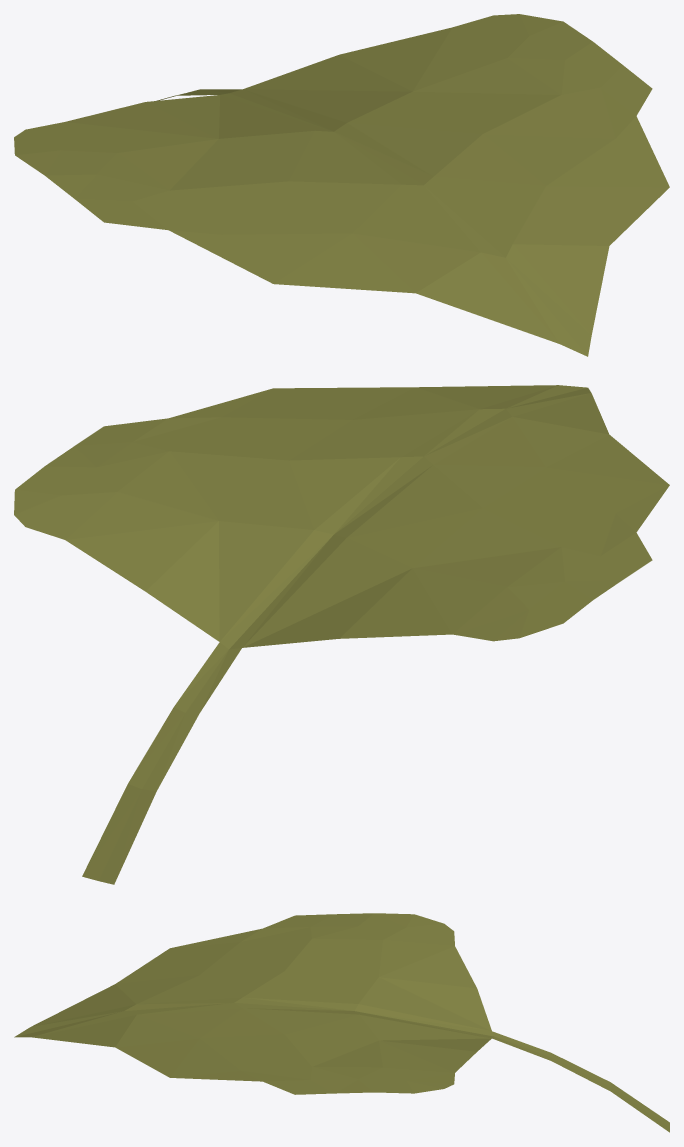
Rendered from SFHW_Leaf_004.fbx.
3 renders of one model, top to bottom at view 1: azimuth 30°, elevation 25°; view 2: azimuth 150°, elevation 25°; view 3: azimuth 270°, elevation 25°, orthographic. The views are drawn at different scales.
Visible parts, largest first — view 1: SFHW_Leaf_004; view 2: SFHW_Leaf_004; view 3: SFHW_Leaf_004.
Part boxes in pixels (<box>): SFHW_Leaf_004: <box>14,14,669,356</box>; SFHW_Leaf_004: <box>14,385,669,884</box>; SFHW_Leaf_004: <box>14,913,669,1132</box>.
Size of the model in its own units: 8.06 by 2.62 by 12.46.
